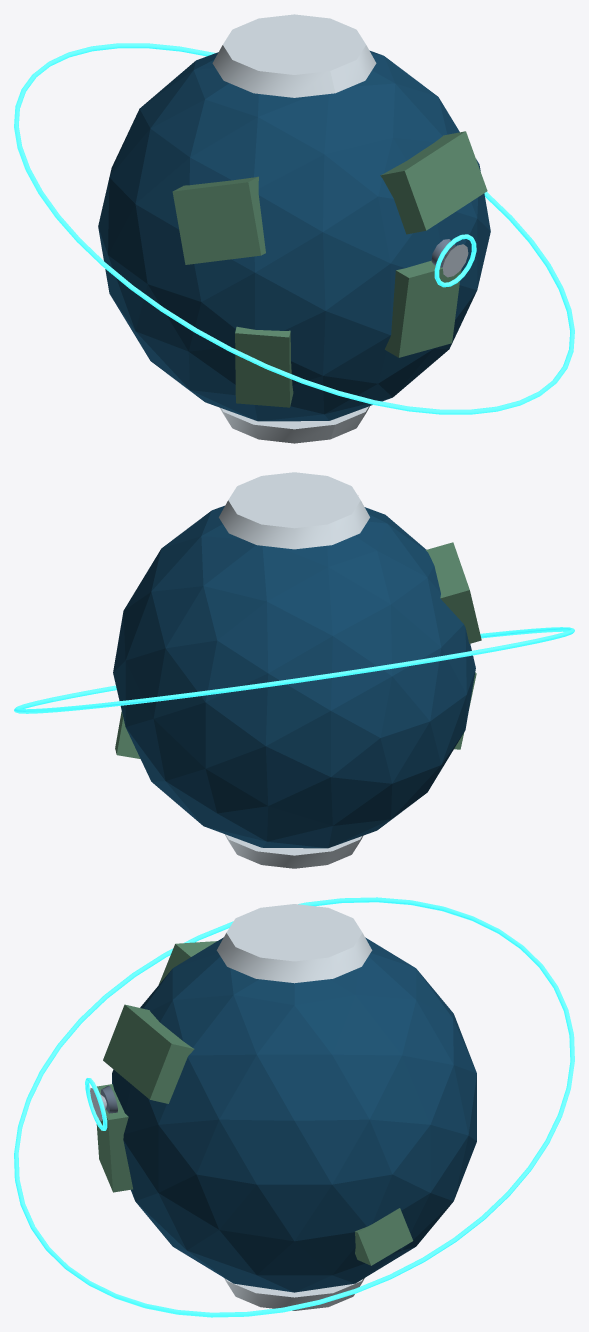
Rendered from earth.glb.
3 renders of one model, top to bottom at view 1: azimuth 30°, elevation 25°; view 2: azimuth 150°, elevation 25°; view 3: azimuth 270°, elevation 25°, orthographic. The views are drawn at different scales.
Parts seen in each view (by area): view 1: ocean_globe_mesh, polar_cap_north, continent_americas_n, continent_eurasia, orbit_trajectory_torus, continent_africa, continent_americas_s, polar_cap_south, station_ping_ring, station_dish_reflector; view 2: ocean_globe_mesh, polar_cap_north, orbit_trajectory_torus, continent_americas_n, polar_cap_south, continent_australia; view 3: ocean_globe_mesh, polar_cap_north, orbit_trajectory_torus, continent_eurasia, continent_africa, continent_australia, polar_cap_south, continent_americas_n.
Boxes of the visible parts, box(x1,y1,x2,y2) form: ocean_globe_mesh: box(98, 50, 490, 421); polar_cap_north: box(212, 14, 376, 97); continent_americas_n: box(172, 176, 265, 264); continent_eurasia: box(380, 131, 487, 234); orbit_trajectory_torus: box(14, 43, 574, 414); continent_africa: box(385, 260, 461, 357); continent_americas_s: box(235, 326, 293, 407); polar_cap_south: box(220, 406, 369, 443); station_ping_ring: box(434, 234, 476, 287); station_dish_reflector: box(442, 244, 468, 277); ocean_globe_mesh: box(113, 505, 475, 848); polar_cap_north: box(219, 472, 369, 549); orbit_trajectory_torus: box(14, 627, 574, 713); continent_americas_n: box(426, 542, 481, 643); polar_cap_south: box(224, 834, 363, 868); continent_australia: box(115, 711, 140, 758); ocean_globe_mesh: box(112, 937, 476, 1292); polar_cap_north: box(216, 904, 372, 983); orbit_trajectory_torus: box(14, 897, 574, 1317); continent_eurasia: box(103, 1004, 194, 1103); continent_africa: box(96, 1084, 132, 1192); continent_australia: box(355, 1208, 413, 1265); polar_cap_south: box(224, 1278, 364, 1310); continent_americas_n: box(158, 941, 216, 984).
Size of the model in its own units: 3.41 by 2.38 by 3.46.
